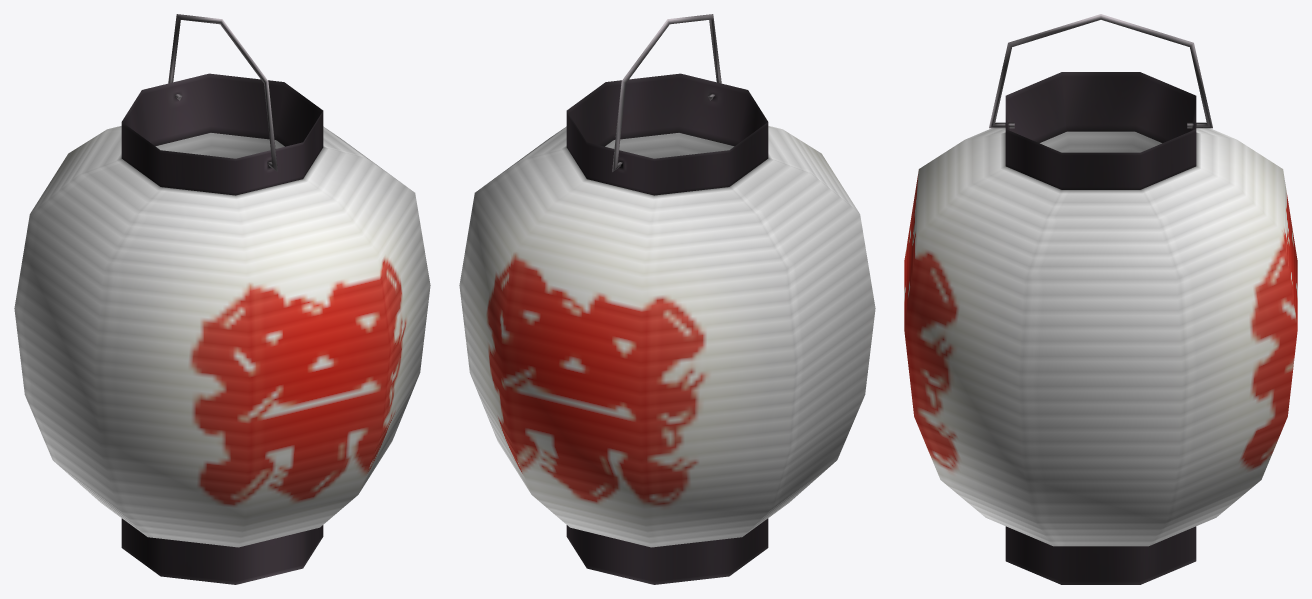
The model's file is jsf_Light_Lantern_02.fbx.
3 renders of one model, left to right at view 1: azimuth 30°, elevation 25°; view 2: azimuth 150°, elevation 25°; view 3: azimuth 270°, elevation 25°, orthographic.
Parts seen in each view (by area): view 1: Lantern, Handle; view 2: Lantern, Handle; view 3: Lantern, Handle.
Boxes of the visible parts, x1=… form: Lantern: x1=14, y1=73, x2=430, y2=584; Handle: x1=168, y1=14, x2=277, y2=171; Lantern: x1=459, y1=73, x2=875, y2=584; Handle: x1=612, y1=14, x2=721, y2=171; Lantern: x1=904, y1=72, x2=1297, y2=584; Handle: x1=989, y1=14, x2=1212, y2=128.
Size of the model in its own units: 24.03 by 35.78 by 24.03.
